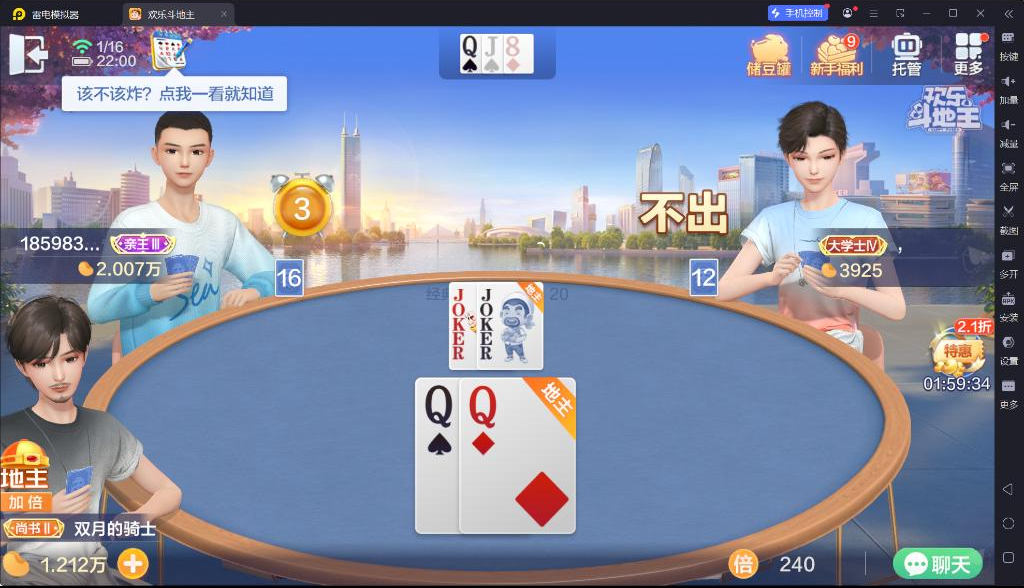J: (482, 35, 500, 58)
JOKER: (451, 287, 467, 334)
Q: (422, 383, 454, 431), (467, 383, 500, 429), (460, 34, 480, 59)
eight: (504, 35, 521, 57)
joker: (478, 285, 496, 334)
